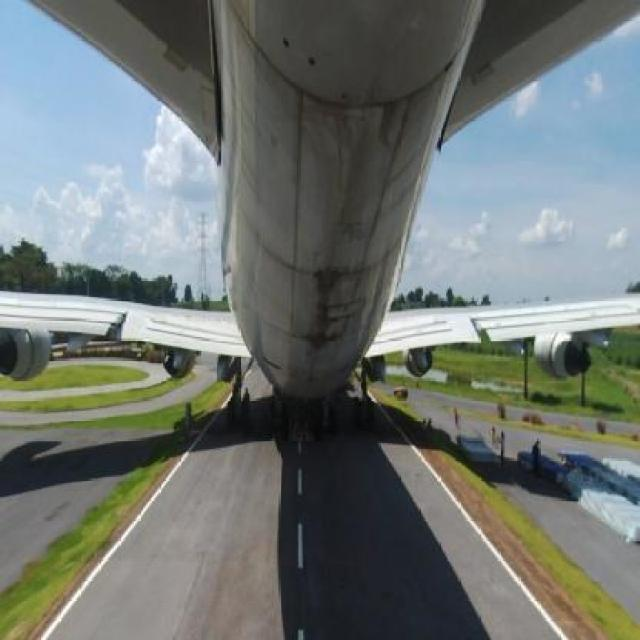Scartch: (294, 56, 412, 256), (286, 258, 368, 365)
